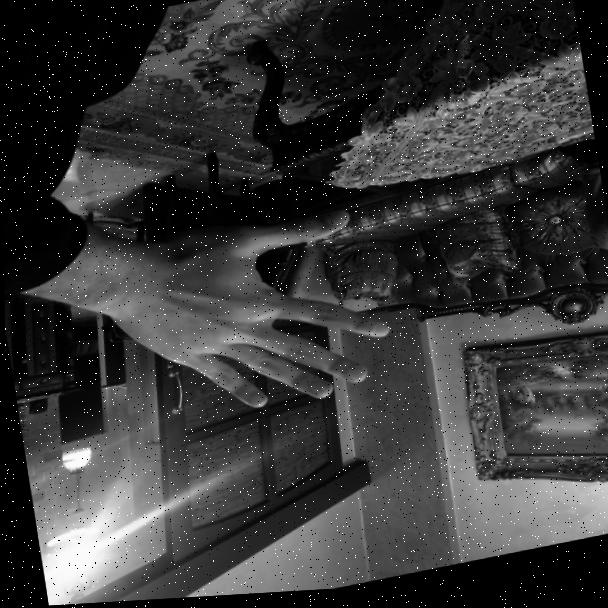five: (101, 178, 398, 443)
